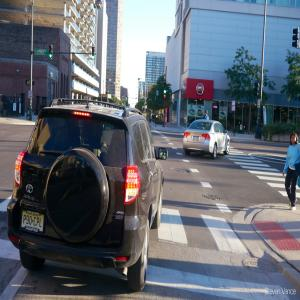Vehicle-registration-plate: (21, 211, 46, 235), (194, 136, 200, 142)
